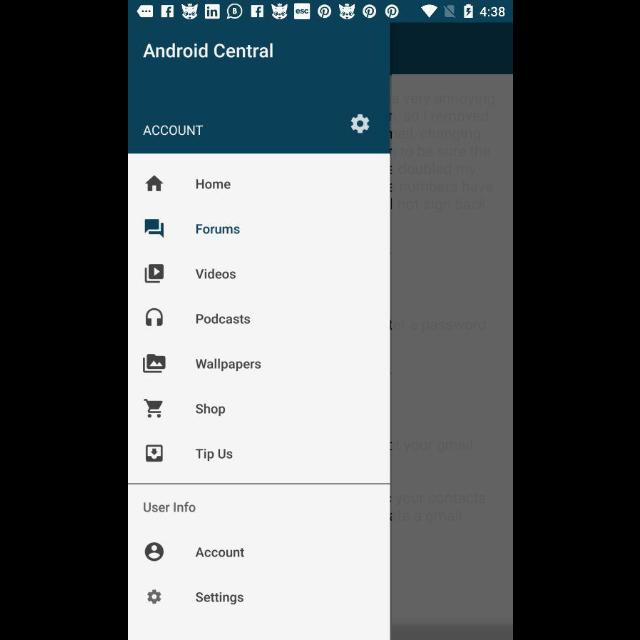icon: (142, 354, 166, 374), (350, 115, 370, 135), (144, 264, 164, 284), (143, 398, 163, 418), (144, 542, 164, 562), (144, 174, 164, 192), (144, 220, 164, 238), (144, 445, 164, 463), (146, 588, 162, 604)
image: (145, 308, 163, 328)
panel: (128, 24, 388, 640)
text: (143, 43, 273, 59), (194, 358, 262, 372), (194, 592, 243, 606), (196, 313, 250, 325), (142, 501, 195, 513), (142, 126, 204, 136), (195, 546, 245, 558), (196, 223, 240, 235), (195, 448, 232, 462), (194, 268, 236, 280), (195, 178, 231, 190), (195, 403, 225, 417)
uppertaskbar: (128, 1, 512, 23)
